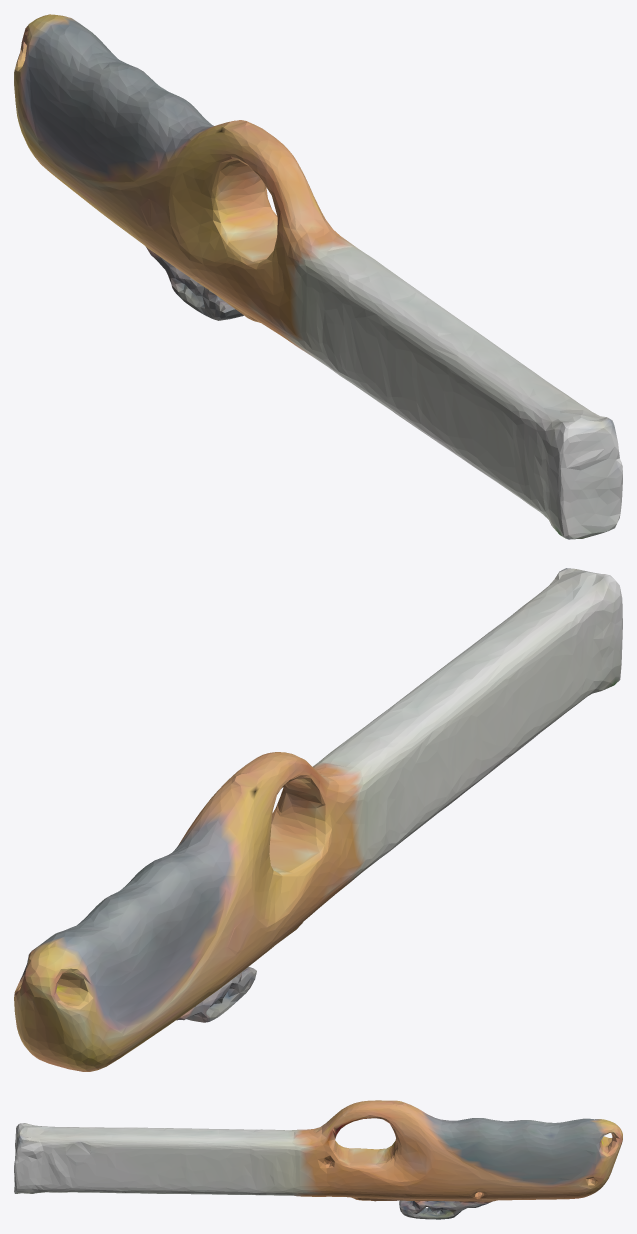
3 renders of one model, top to bottom at view 1: azimuth 30°, elevation 25°; view 2: azimuth 150°, elevation 25°; view 3: azimuth 270°, elevation 25°, orthographic. The views are drawn at different scales.
Visible parts, largest first — view 1: scan.ply; view 2: scan.ply; view 3: scan.ply.
Boxes of the visible parts, left/top/right/bottom form: scan.ply: left=14, top=14, right=622, bottom=539; scan.ply: left=14, top=568, right=622, bottom=1071; scan.ply: left=14, top=1100, right=622, bottom=1219.
Bounding box in the file's own units: 0.025 × 0.057 × 0.2763.
